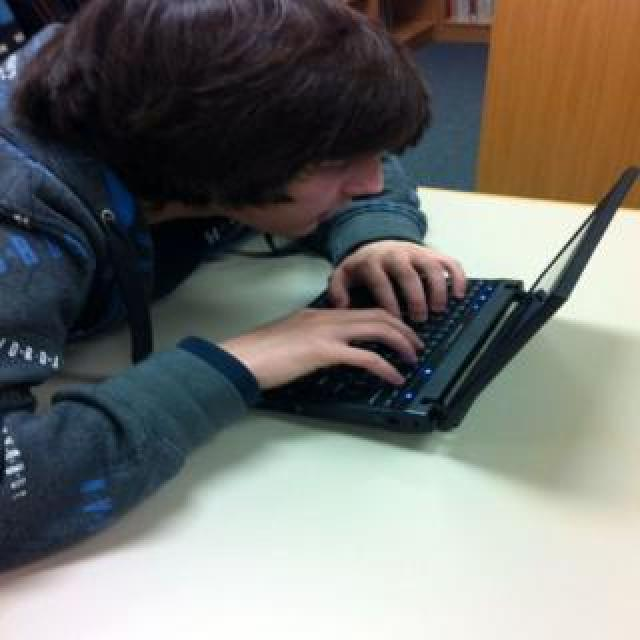laptop_computer: (243, 149, 635, 441)
